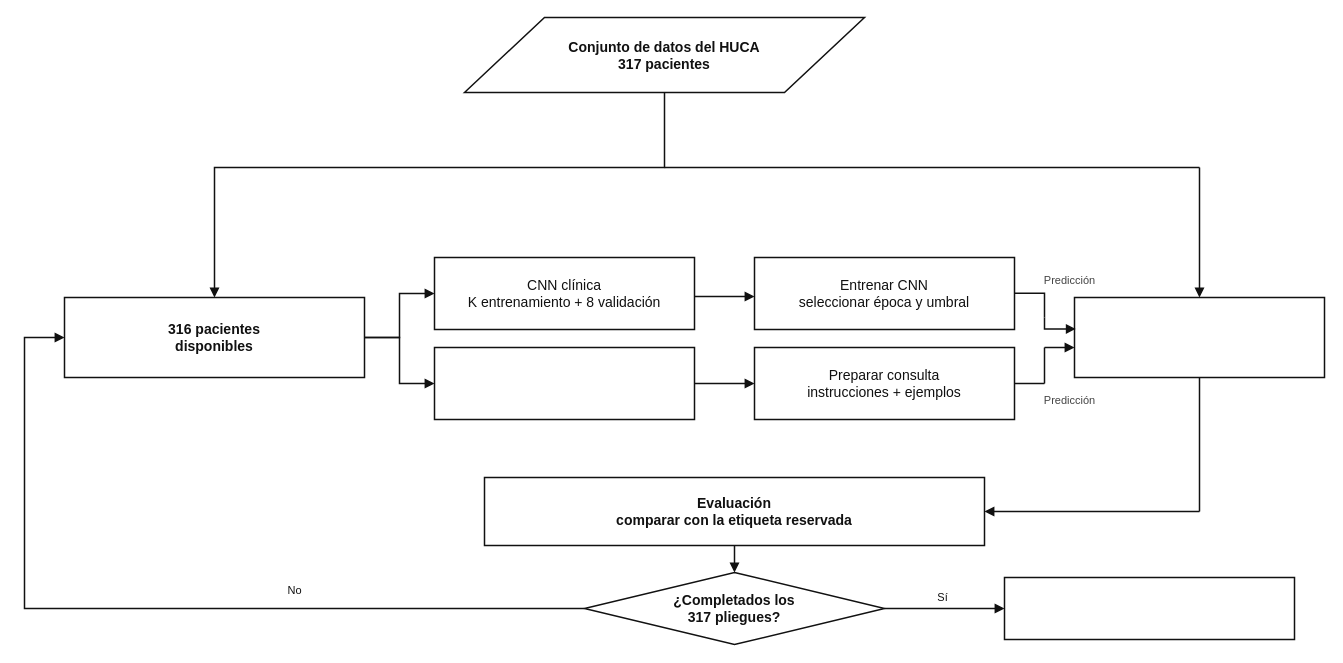
The diagram is 1343 pixels wide and 663 high, and some of its shapes have lost their labels. Here are the shapes that lost their labels. From the top down, the centre of each, then its label:
pixel 1199 337: Paciente reservado
pixel 564 383: Gemma 4 / ICL K demostraciones etiquetadas
pixel 1149 608: Resultados
